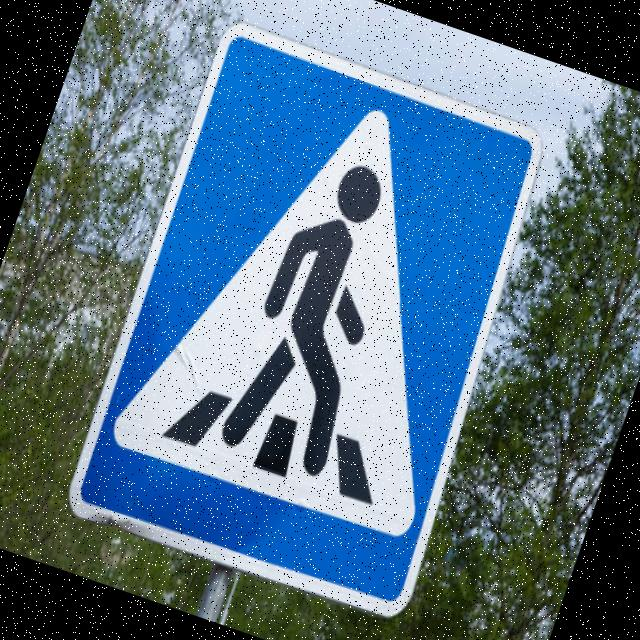crosswalk: (49, 4, 582, 634)
